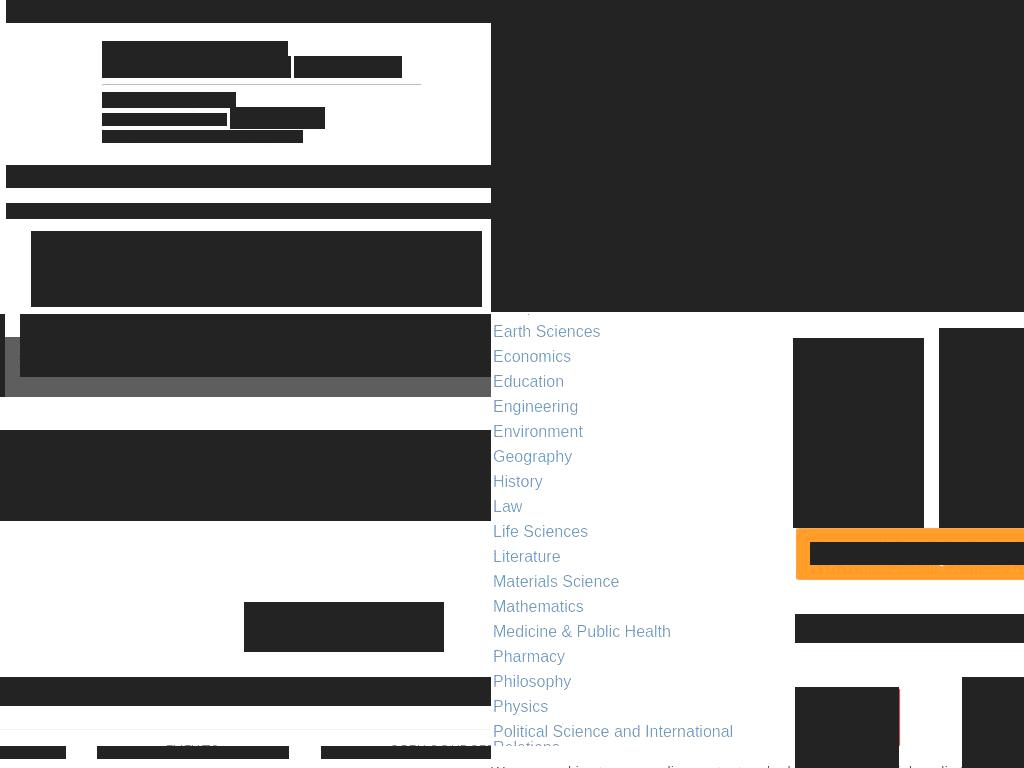button: (545, 112, 1024, 312), (545, 0, 1024, 112), (793, 338, 924, 528), (939, 328, 1024, 528), (491, 720, 761, 760), (795, 687, 899, 768), (491, 320, 761, 344), (491, 345, 761, 369), (491, 370, 761, 394), (491, 395, 761, 419), (491, 420, 761, 444), (491, 445, 761, 469), (491, 470, 761, 494), (491, 495, 761, 519), (491, 520, 761, 544), (491, 545, 761, 569), (491, 570, 761, 594), (491, 595, 761, 619), (491, 620, 761, 644), (491, 645, 761, 669), (491, 670, 761, 694), (491, 695, 761, 719), (962, 677, 1024, 768), (97, 746, 289, 759), (321, 746, 491, 759), (491, 761, 761, 768), (0, 746, 66, 759)
field: (102, 56, 291, 78), (294, 56, 402, 78), (230, 107, 325, 129)
heading: (565, 30, 1024, 92), (565, 230, 1024, 292), (6, 165, 491, 188), (795, 614, 1024, 643), (565, 212, 1024, 225)
iframe: (0, 430, 491, 521)
image: (795, 340, 920, 506), (941, 330, 1024, 506), (244, 602, 444, 652), (795, 687, 899, 768), (962, 677, 1024, 768)
link: (20, 314, 491, 377)
text: (31, 231, 482, 307), (0, 677, 491, 706), (6, 0, 491, 23), (6, 203, 491, 219), (810, 542, 1024, 565), (102, 41, 288, 57), (102, 130, 303, 143), (102, 92, 236, 108), (102, 113, 227, 126), (124, 7, 208, 23), (95, 7, 124, 23), (206, 7, 210, 23)
